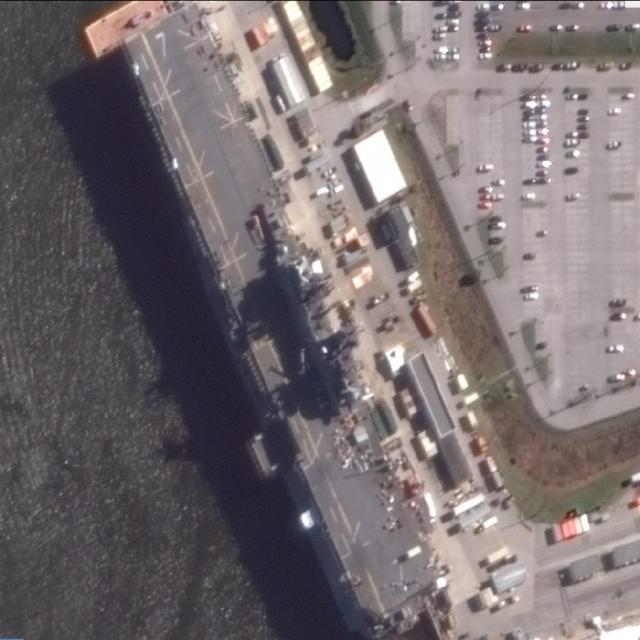Landing: (119, 6, 438, 636)
